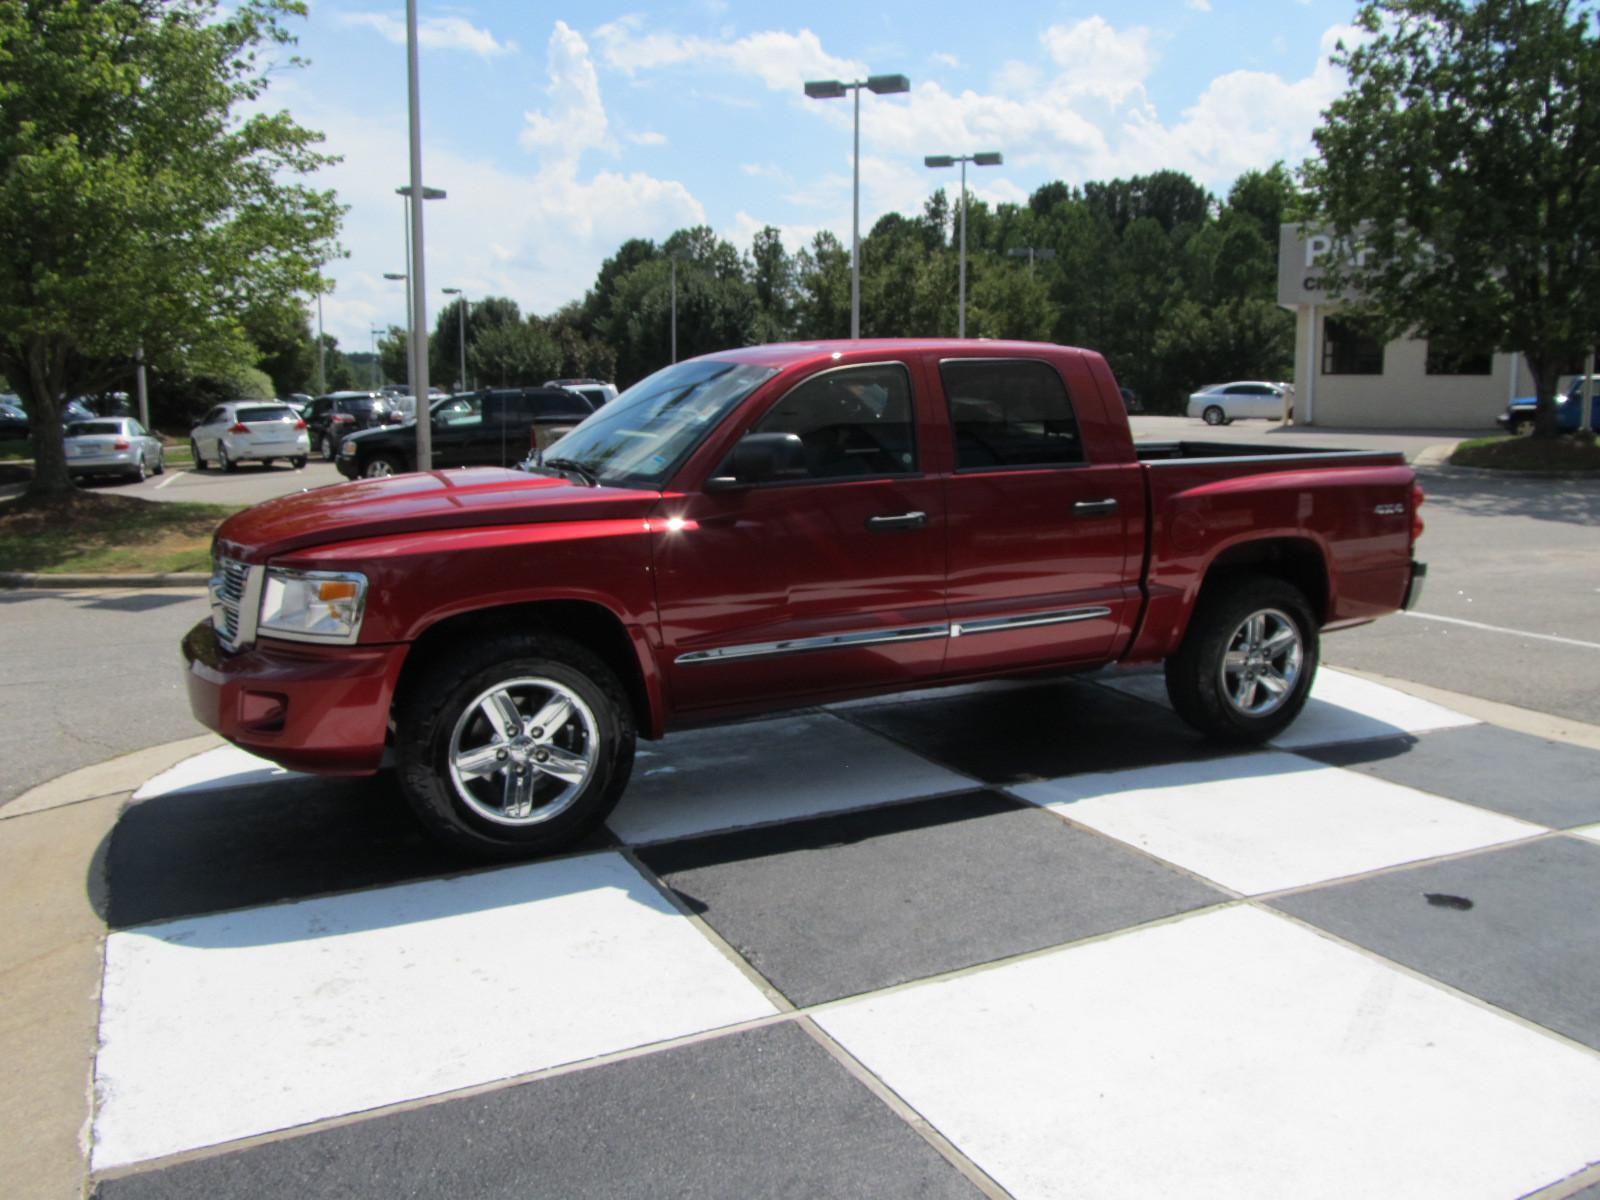Car: (176, 314, 1482, 863), (336, 371, 653, 492), (181, 364, 323, 478), (1175, 342, 1322, 437), (62, 408, 185, 500)
